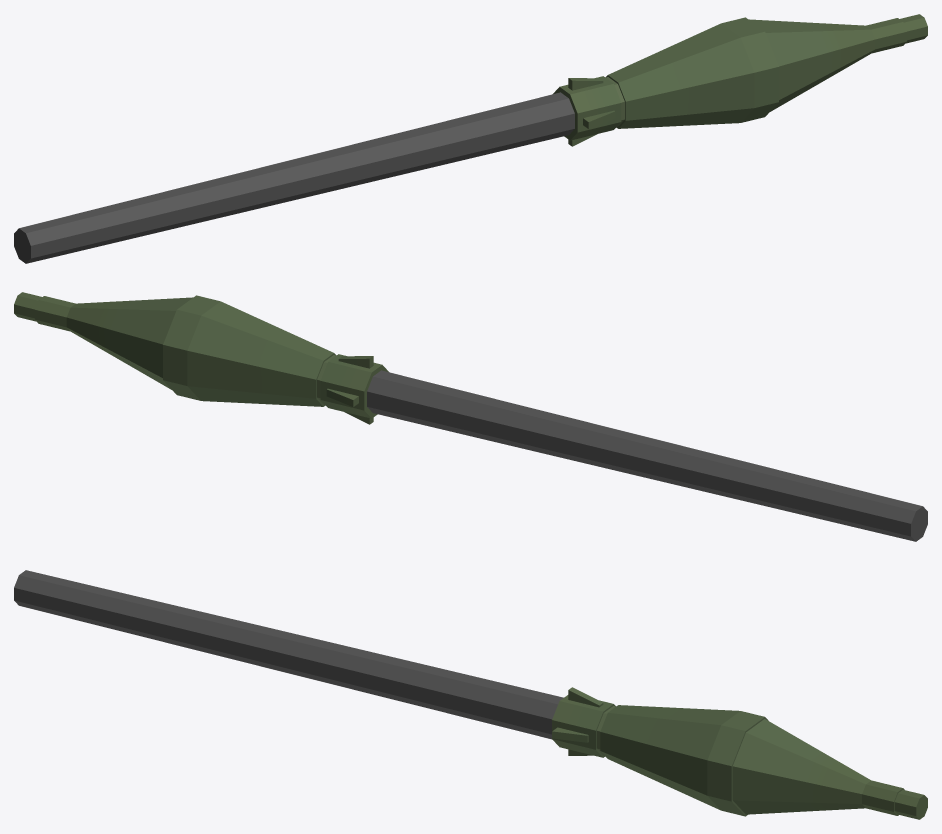
File: SM_HeavyWeapon2_01_3.glb
The picture shows the model from 3 angles, top to bottom: view 1: azimuth 30°, elevation 25°; view 2: azimuth 150°, elevation 25°; view 3: azimuth 330°, elevation 25°; orthographic projection.
Visible parts, largest first — view 1: SM_HeavyWeapon2_01_3; view 2: SM_HeavyWeapon2_01_3; view 3: SM_HeavyWeapon2_01_3.
Part boxes in pixels (x1,y1,x2,y2): SM_HeavyWeapon2_01_3: (14, 14, 927, 263); SM_HeavyWeapon2_01_3: (14, 292, 927, 541); SM_HeavyWeapon2_01_3: (14, 570, 927, 819).
Bounding box in the file's own units: 1.07 × 0.097 × 0.097.
Materials: 1 (1 with a texture image).
